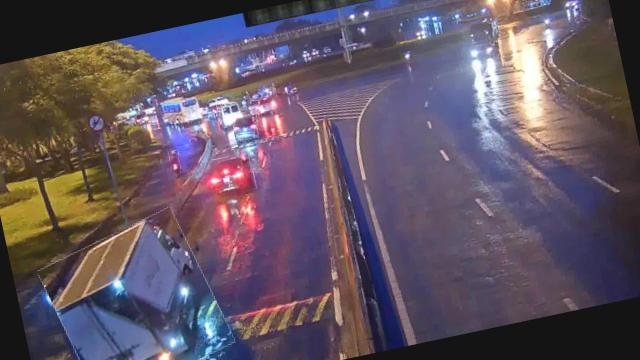Bike: (168, 148, 182, 174)
Car: (204, 152, 256, 198), (230, 112, 260, 141)
Truck: (38, 208, 233, 360)
